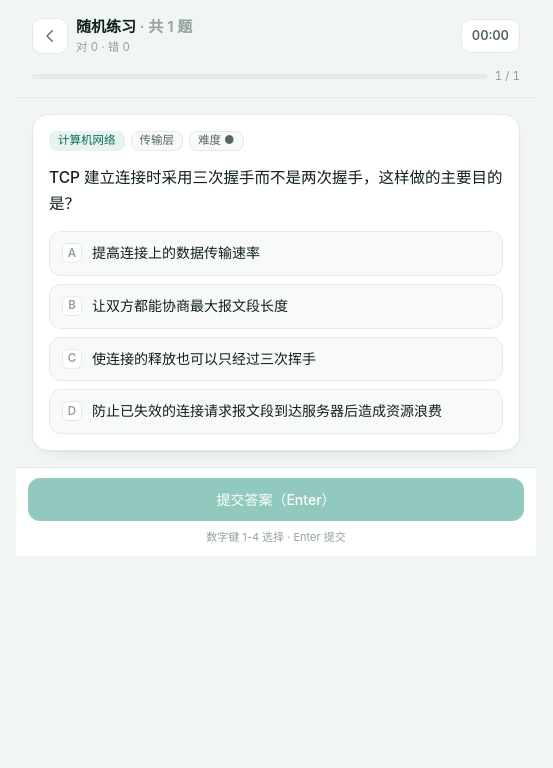
Test: 应用闭环 › 答对一题：落库、显示解析、不进错题本
Click the button "D 防止已失效的连接请求报文段到达服务器后造成资源浪费" at (276, 412), box [49,389,503,434]
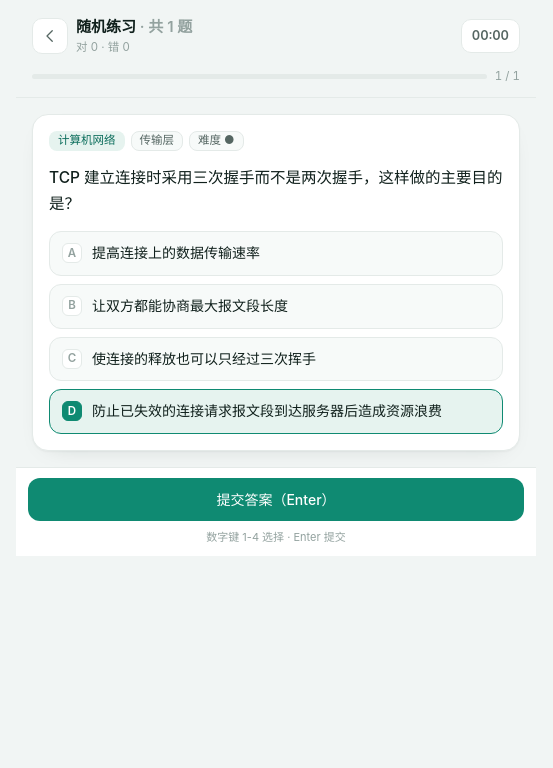
Click the button "提交答案（Enter）" at (276, 500), box [28,478,524,521]
(page scrolled)
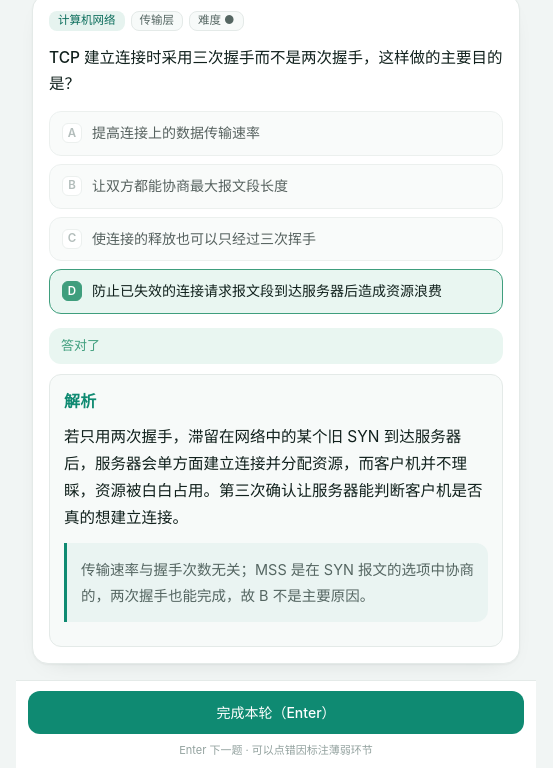
expect the text "答对了" is shown: met, box [49,328,503,364]
expect the text "解析" is shown: met, box [64,391,96,411]
Click the button "完成本轮（Enter）" at (276, 712), box [28,691,524,734]
(page scrolled)
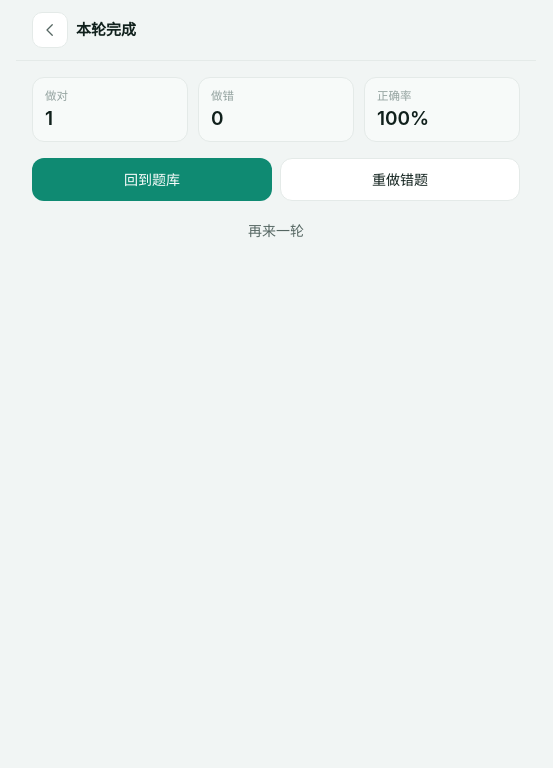
expect the text "本轮完成" is shown: met, box [76,19,136,41]
expect the text "正确率" is shown: met, box [377,89,412,103]
expect the text "100%" is shown: met, box [377,107,429,130]
